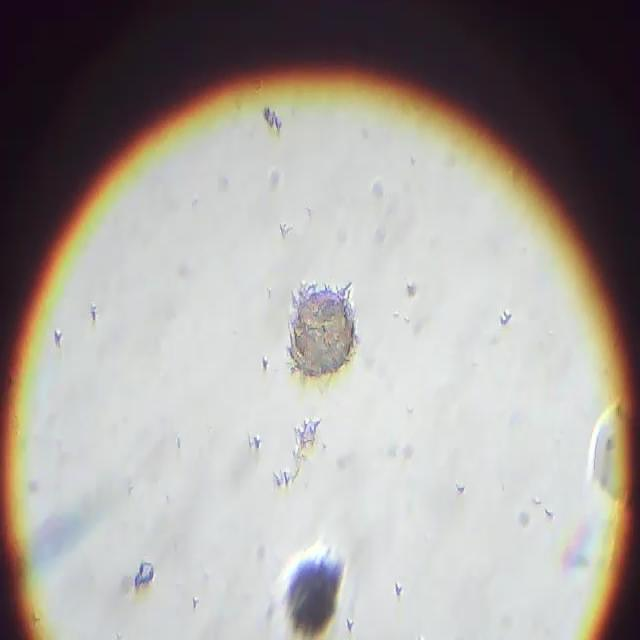alexandrium: (285, 269, 361, 391)
alexandrium minutum: (283, 540, 343, 640)
